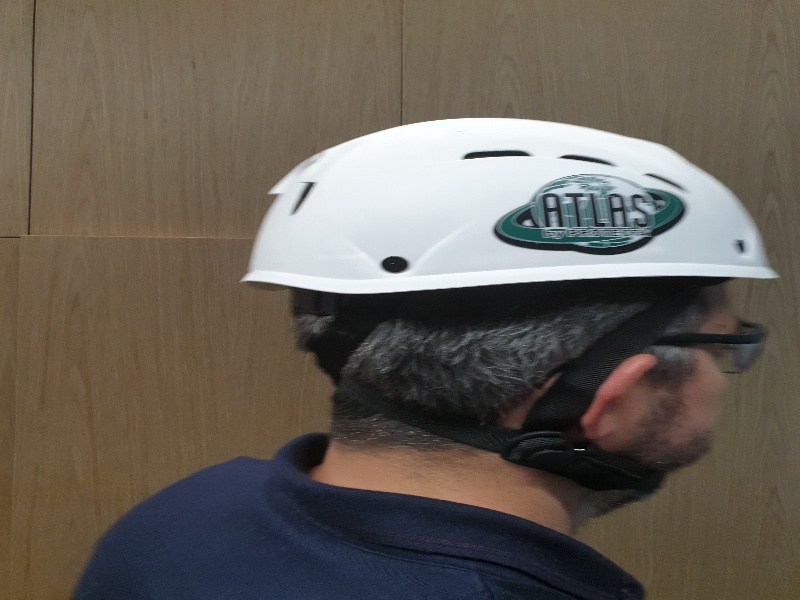Baret: (240, 118, 781, 292)
